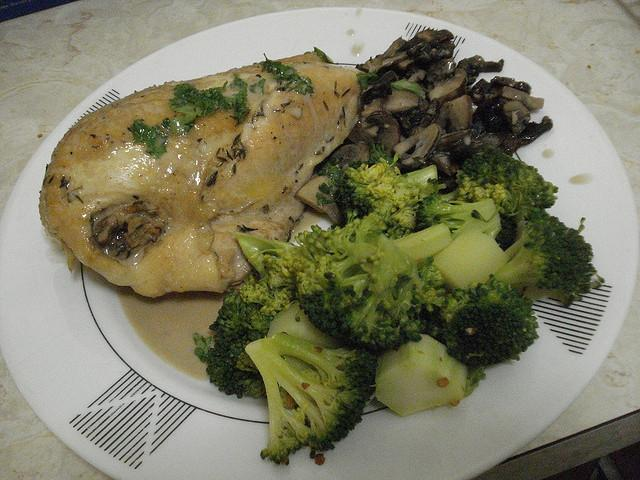broccoli: (248, 212, 450, 352), (244, 333, 378, 466), (474, 204, 605, 308), (190, 288, 274, 407), (438, 274, 540, 368), (334, 162, 447, 242), (452, 145, 558, 222), (375, 334, 469, 417), (432, 232, 510, 290), (414, 192, 502, 241)
mushroom: (494, 115, 553, 156), (296, 176, 340, 224), (394, 124, 442, 168), (364, 111, 401, 158), (434, 94, 474, 134), (428, 69, 468, 106), (384, 80, 425, 113), (434, 128, 481, 156), (330, 140, 370, 168), (503, 86, 544, 112), (502, 100, 532, 134), (366, 52, 408, 73), (414, 28, 455, 48), (491, 76, 530, 96), (426, 60, 457, 83), (419, 97, 441, 128), (426, 56, 454, 74), (382, 37, 407, 57), (484, 82, 504, 100), (480, 59, 504, 73), (356, 114, 372, 130), (408, 70, 426, 83)
